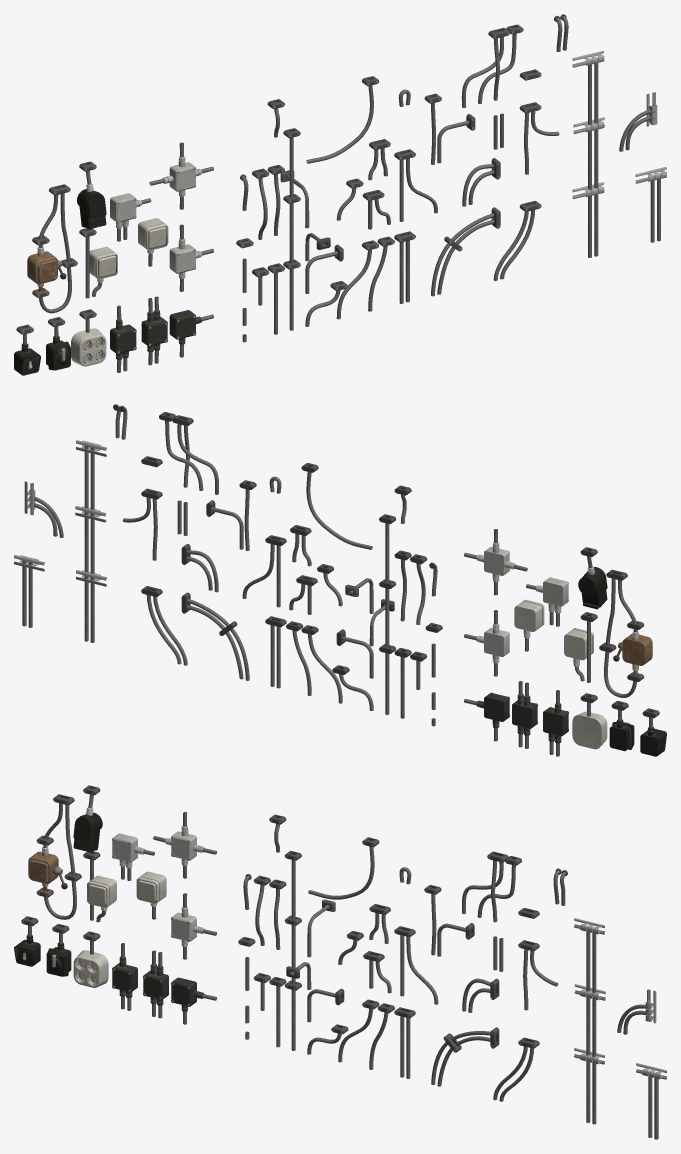
The model's file is modular_electric_cables.glb.
3 renders of one model, top to bottom at view 1: azimuth 30°, elevation 25°; view 2: azimuth 150°, elevation 25°; view 3: azimuth 330°, elevation 25°, orthographic.
Visible parts, largest first — view 1: cable_double_alt_long, cable_switch, cable_plug_4x, cable_3way_junction, cable_lightswitch_double, cable_straight_long, cable_plug_covered_2, cable_double_turn_long, cable_box_double, cable_box_4way, cable_box_3way, cable_box_double_to_single (+14 smaller); view 2: cable_double_alt_long, cable_switch, cable_3way_junction, cable_plug_4x, cable_straight_long, cable_lightswitch_double, cable_double_turn_long, cable_plug_covered_2, cable_box_double, cable_box_4way, cable_box_double_to_single_2, cable_box_3way (+14 smaller); view 3: cable_double_alt_long, cable_switch, cable_plug_4x, cable_3way_junction, cable_straight_long, cable_plug_covered_2, cable_lightswitch_double, cable_box_4way, cable_box_double, cable_double_turn_long, cable_box_3way, cable_box_double_to_single (+14 smaller).
Part boxes in pixels (left/top/right/bottom): cable_double_alt_long: left=572, top=50, right=604, bottom=257; cable_switch: left=27, top=184, right=77, bottom=313; cable_plug_4x: left=71, top=309, right=106, bottom=366; cable_3way_junction: left=461, top=24, right=523, bottom=107; cable_lightswitch_double: left=79, top=228, right=117, bottom=298; cable_straight_long: left=283, top=128, right=300, bottom=330; cable_plug_covered_2: left=77, top=161, right=106, bottom=228; cable_double_turn_long: left=431, top=207, right=500, bottom=296; cable_box_double: left=141, top=296, right=167, bottom=365; cable_box_4way: left=149, top=142, right=213, bottom=209; cable_box_3way: left=169, top=224, right=213, bottom=291; cable_box_double_to_single: left=110, top=305, right=136, bottom=372; cable_double_alt_long: left=75, top=440, right=106, bottom=642; cable_switch: left=599, top=569, right=652, bottom=697; cable_3way_junction: left=159, top=412, right=218, bottom=494; cable_plug_4x: left=572, top=693, right=607, bottom=749; cable_straight_long: left=379, top=514, right=396, bottom=714; cable_lightswitch_double: left=564, top=612, right=597, bottom=682; cable_double_turn_long: left=181, top=592, right=249, bottom=680; cable_plug_covered_2: left=578, top=547, right=607, bottom=609; cable_box_double: left=512, top=681, right=537, bottom=748; cable_box_4way: left=464, top=529, right=527, bottom=595; cable_box_double_to_single_2: left=526, top=577, right=568, bottom=626; cable_box_3way: left=464, top=610, right=509, bottom=676; cable_double_alt_long: left=574, top=918, right=605, bottom=1124; cable_switch: left=28, top=794, right=81, bottom=919; cable_plug_4x: left=73, top=931, right=108, bottom=987; cable_3way_junction: left=462, top=851, right=521, bottom=922; cable_straight_long: left=284, top=851, right=301, bottom=1050; cable_plug_covered_2: left=73, top=785, right=102, bottom=852; cable_lightswitch_double: left=83, top=851, right=116, bottom=922; cable_box_4way: left=153, top=812, right=216, bottom=878; cable_box_double: left=143, top=950, right=168, bottom=1018; cable_double_turn_long: left=431, top=1027, right=499, bottom=1086; cable_box_3way: left=171, top=893, right=216, bottom=959; cable_box_double_to_single: left=112, top=943, right=137, bottom=1010.
Bounding box in the file's own units: 2.08 × 0.7573 × 0.2145.
2 materials, 2 textured.
